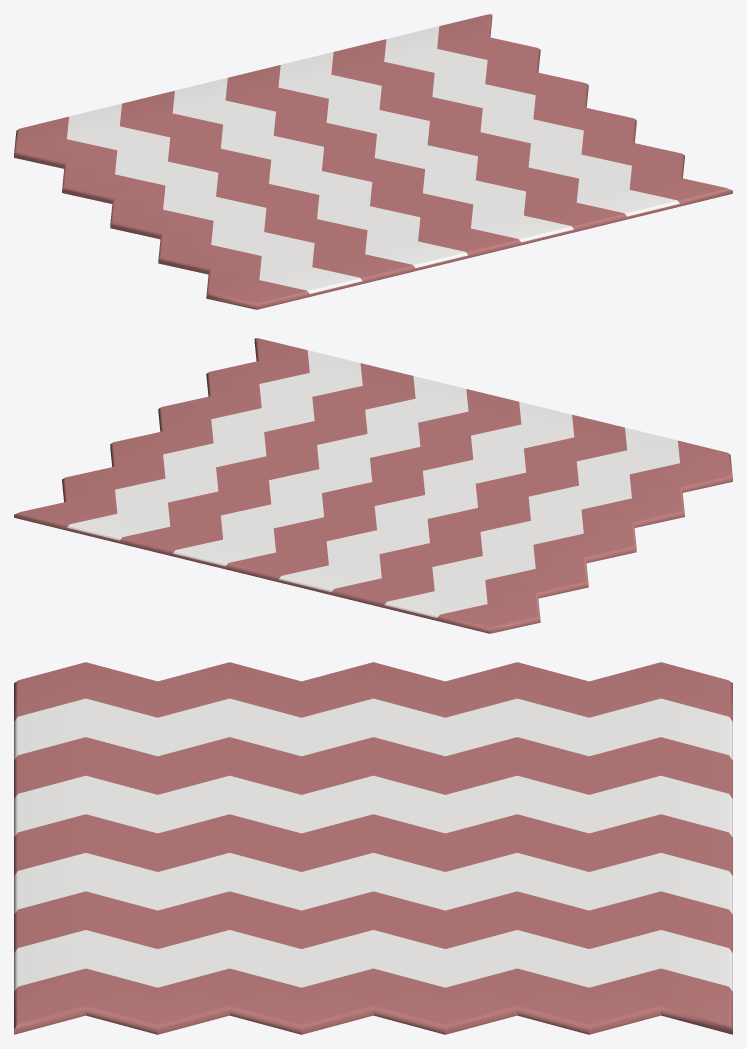
File: Carpet_5.glb
3 views of the same model, one above another, from view 1: azimuth 30°, elevation 25°; view 2: azimuth 150°, elevation 25°; view 3: azimuth 270°, elevation 25° (orthographic). The views are drawn at different scales.
Parts seen in each view (by area): view 1: Carpet_5; view 2: Carpet_5; view 3: Carpet_5.
Boxes of the visible parts, x1=… form: Carpet_5: x1=14, y1=14, x2=732, y2=309; Carpet_5: x1=14, y1=338, x2=732, y2=633; Carpet_5: x1=14, y1=662, x2=732, y2=1034.
Size of the model in its own units: 2.2 by 0.0239 by 1.82.
Materials: 1 (1 with a texture image).
